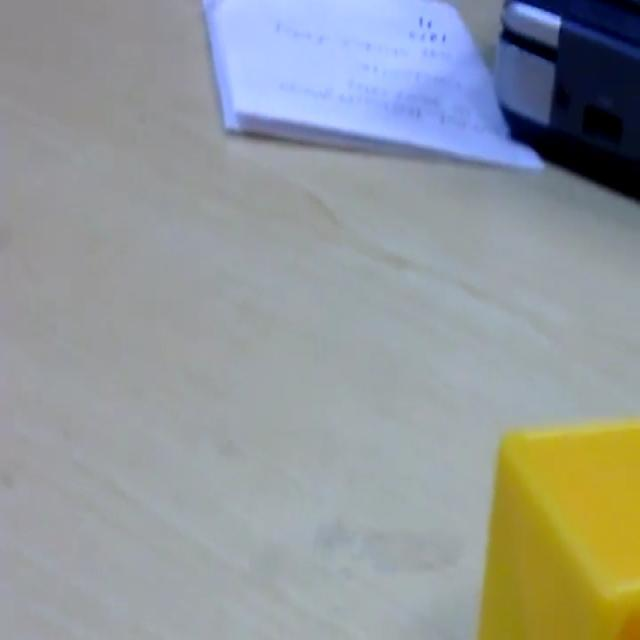yellow_block: (476, 416, 638, 636)
